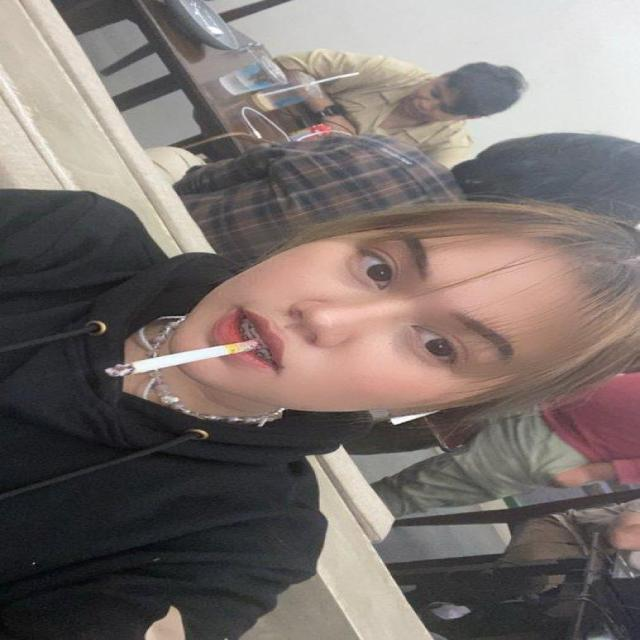rokok: (105, 341, 275, 381)
